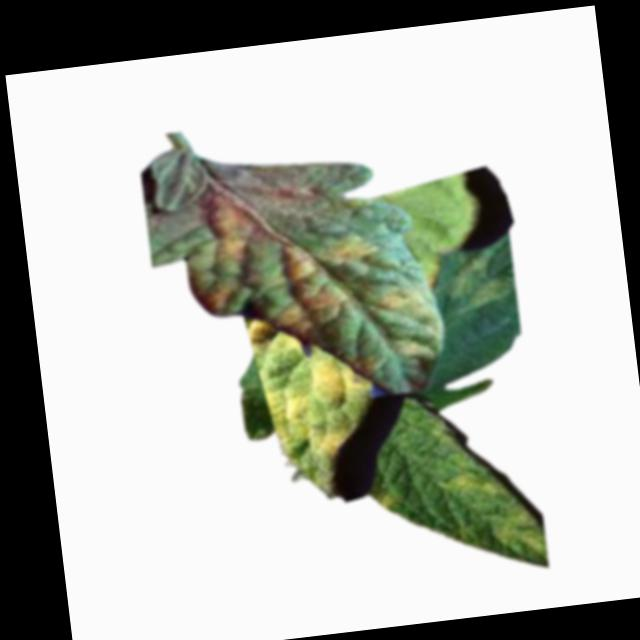Leaf_Mold: (244, 302, 373, 467), (274, 237, 344, 311), (200, 189, 252, 266), (491, 509, 547, 564), (439, 465, 505, 500), (320, 229, 379, 265), (366, 283, 424, 317), (377, 496, 394, 515)
